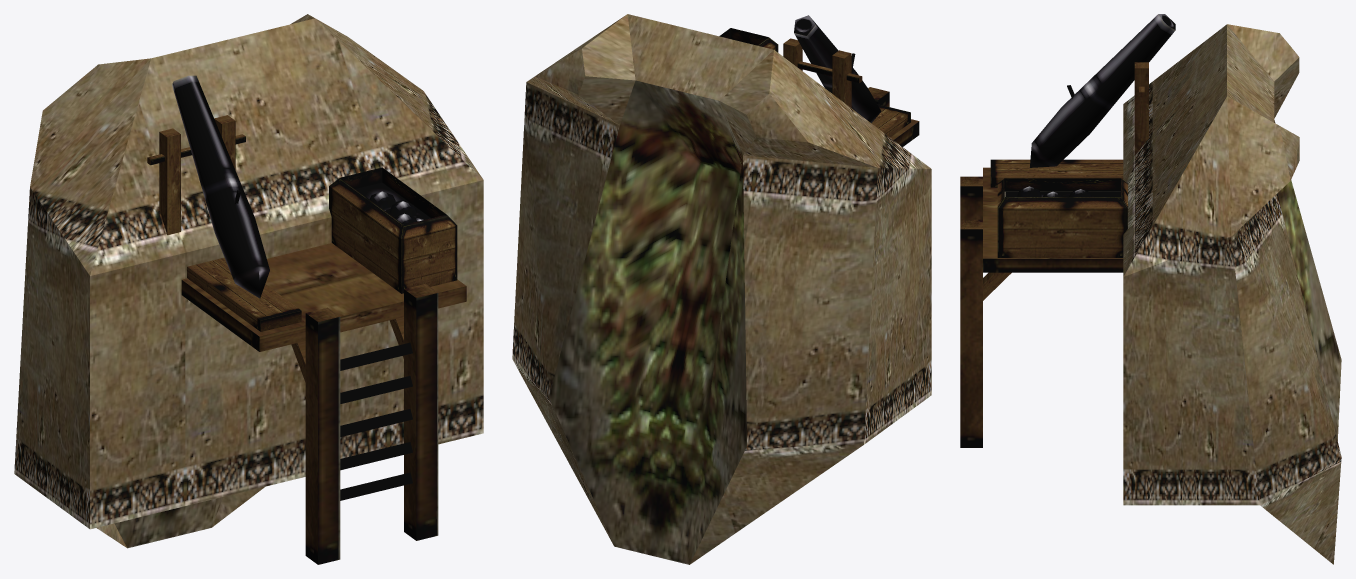
File: StoneMuWall04.obj
The picture shows the model from 3 angles, left to right: view 1: azimuth 30°, elevation 25°; view 2: azimuth 150°, elevation 25°; view 3: azimuth 270°, elevation 25°; orthographic projection. The views are drawn at different scales.
Parts seen in each view (by area): view 1: Mesh_0, Mesh_2, Mesh_1; view 2: Mesh_0, Mesh_1, Mesh_2; view 3: Mesh_0, Mesh_2, Mesh_1.
Boxes of the visible parts, bbox=[...] form: Mesh_0: bbox=[14, 14, 483, 547]; Mesh_2: bbox=[147, 75, 466, 564]; Mesh_1: bbox=[114, 497, 222, 548]; Mesh_0: bbox=[512, 14, 931, 564]; Mesh_1: bbox=[549, 80, 746, 564]; Mesh_2: bbox=[719, 15, 919, 146]; Mesh_0: bbox=[1123, 24, 1341, 564]; Mesh_2: bbox=[960, 14, 1175, 447]; Mesh_1: bbox=[1274, 120, 1341, 440].
Size of the model in its own units: 3 by 4.03 by 2.79.
3 materials, 3 textured.
